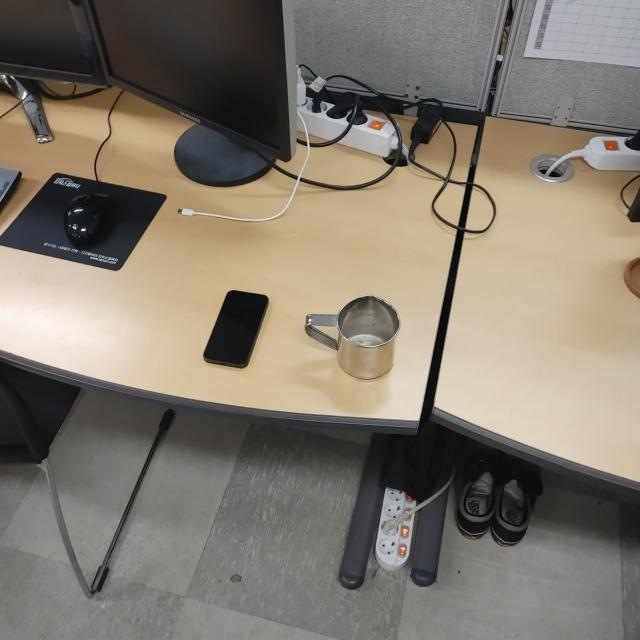cup: (302, 294, 400, 382)
phone: (201, 286, 271, 368)
